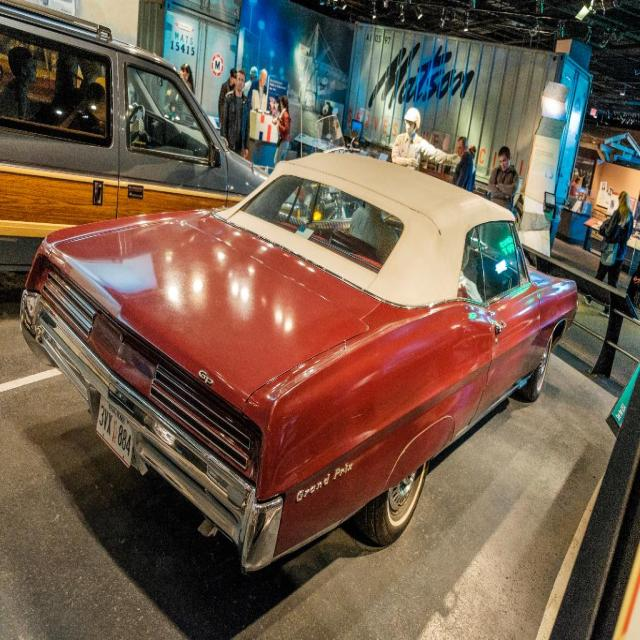car: (18, 113, 573, 575)
